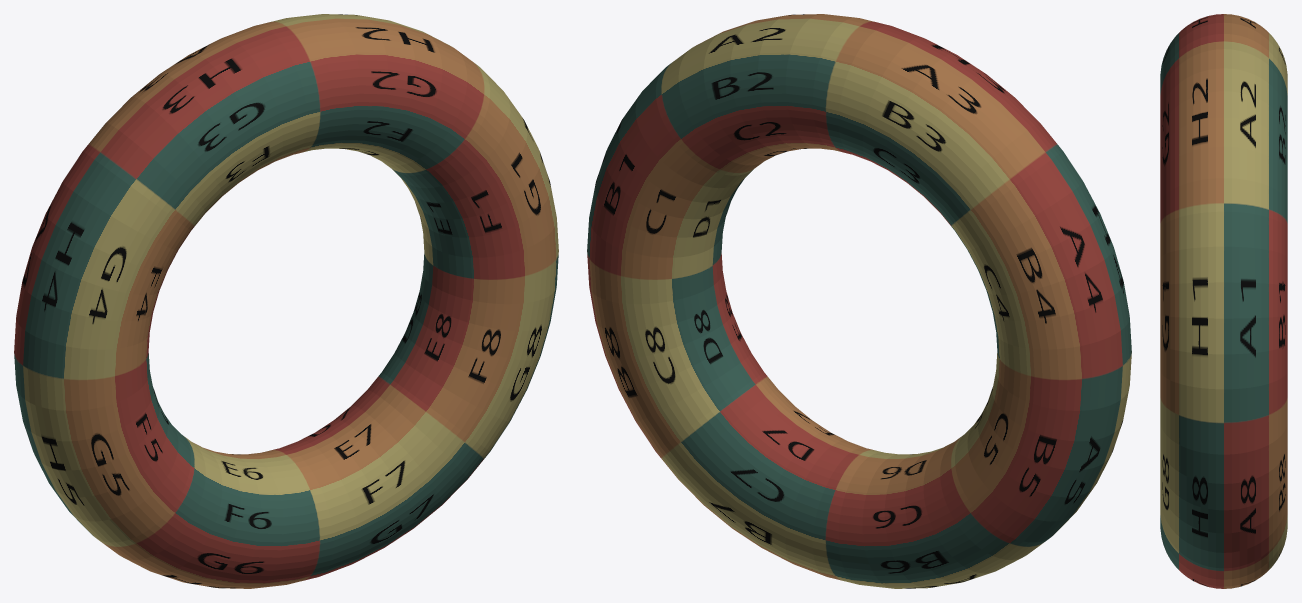
The model's file is texture_torus_R4_r6.glb.
The picture shows the model from 3 angles, left to right: view 1: azimuth 30°, elevation 25°; view 2: azimuth 150°, elevation 25°; view 3: azimuth 270°, elevation 25°; orthographic projection. The views are drawn at different scales.
Visible parts, largest first — view 1: world; view 2: world; view 3: world.
Boxes of the visible parts, bbox=[...] form: world: bbox=[14, 14, 558, 588]; world: bbox=[587, 14, 1131, 588]; world: bbox=[1160, 14, 1287, 588].
Bounding box in the file's own units: 16.27 × 16.23 × 3.59.
1 material, 1 textured.
